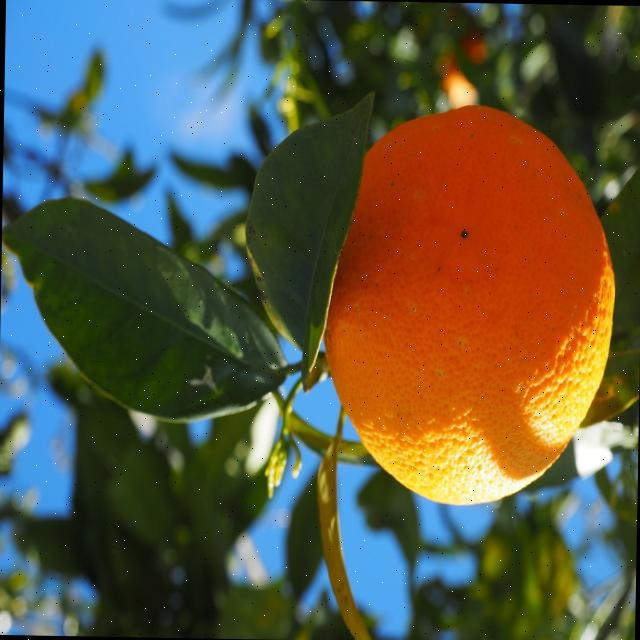Jeruk: (320, 102, 619, 510)
